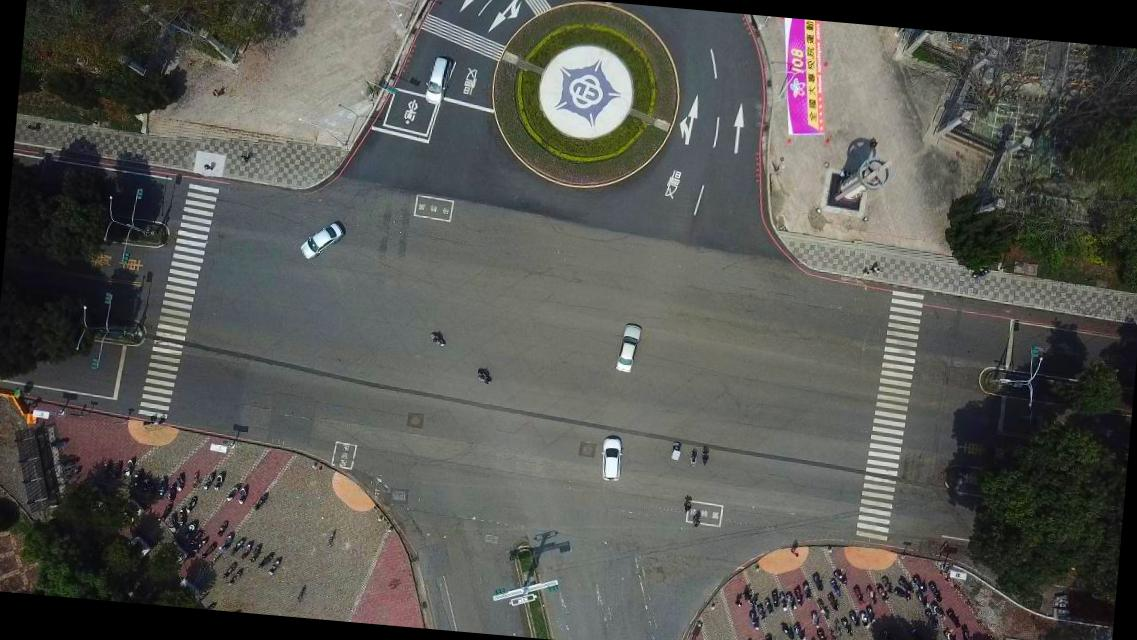vehicle: (298, 220, 342, 260), (613, 322, 640, 373), (424, 56, 450, 106), (599, 436, 622, 481)
